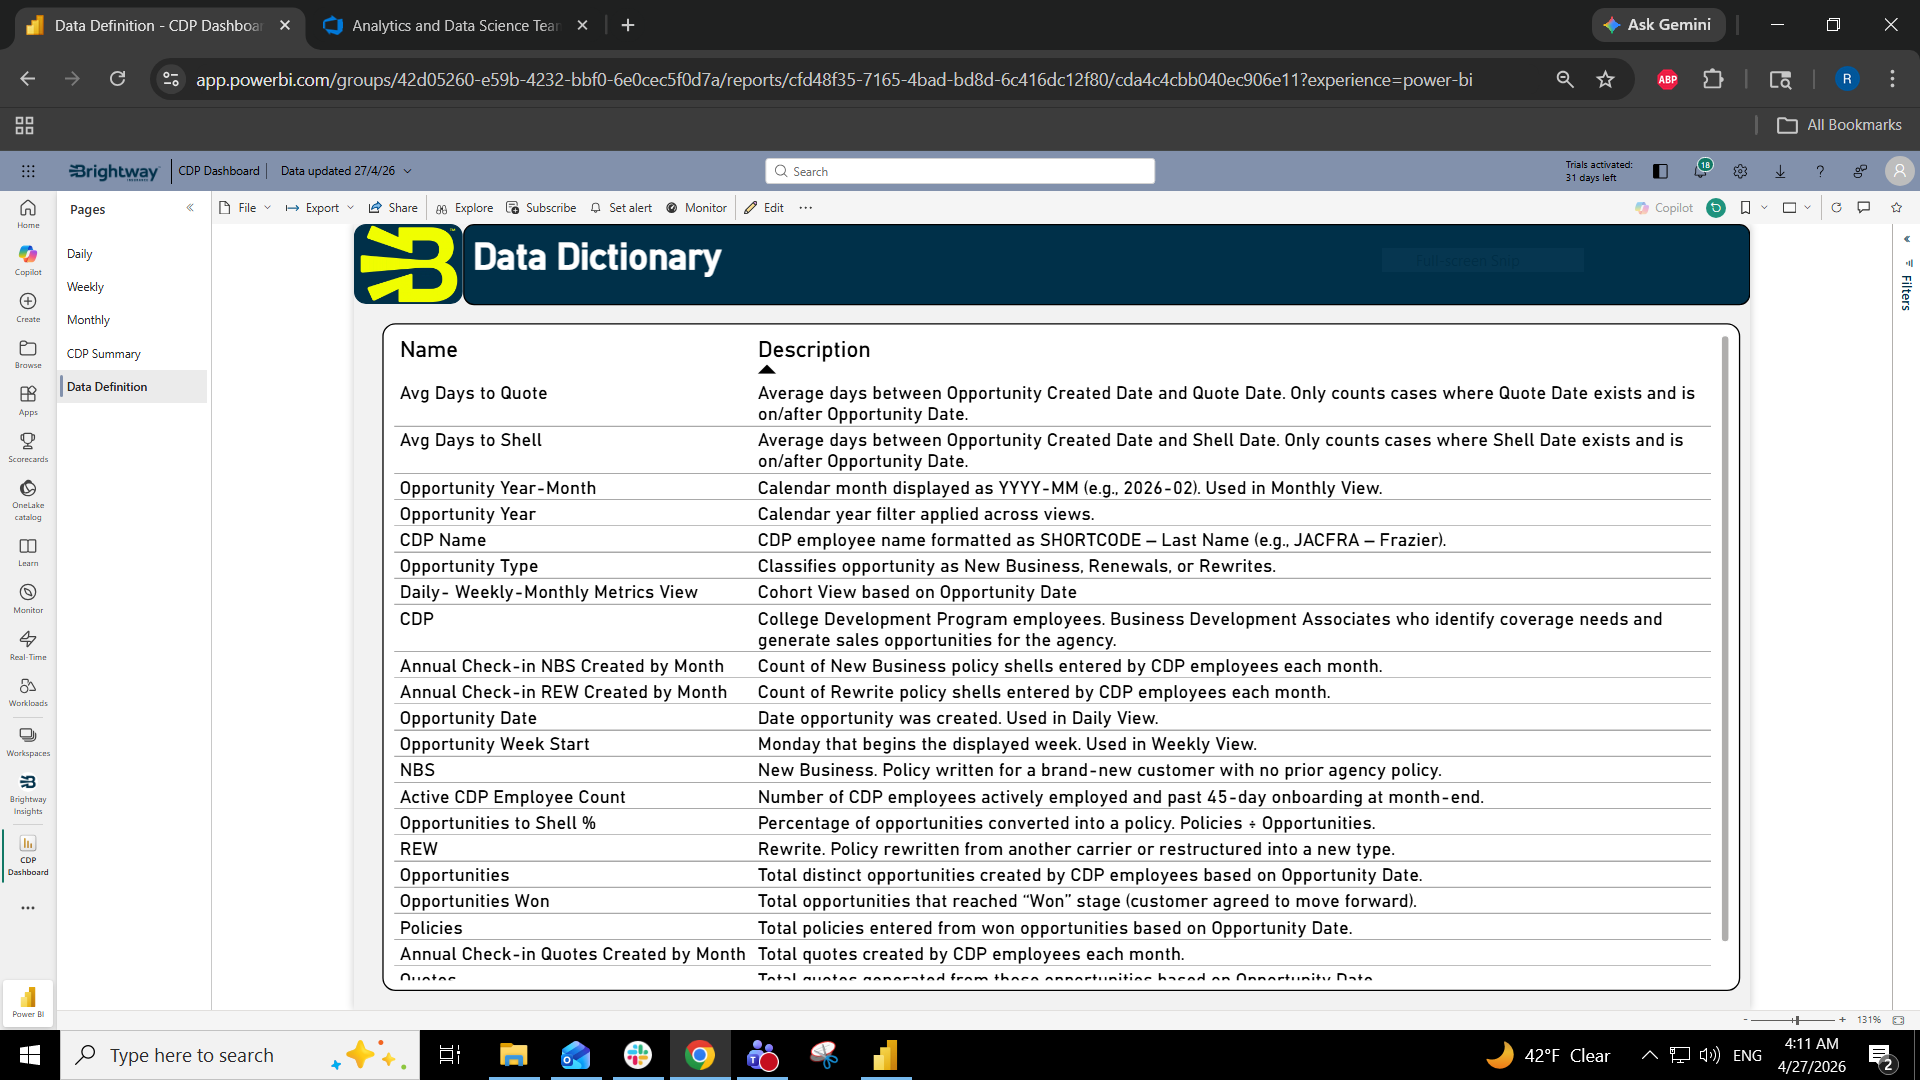

The dashboard page shown, as its layout file describes it:
{"tool":"powerbi","page":{"name":"Data Definition","canvas":[1280,720],"ordinal":4},"visuals":[{"type":"tableEx","fields":{"Values":["Data Definition.Name","Data Definition.Definition"]},"box":[26.1,90.6,1244.6,612],"z":0},{"type":"textbox","box":[100.2,0,1180.1,74.1],"z":1000},{"type":"image","box":[0,0,100.2,72.7],"z":2000}]}

Visuals, with their boxes on the page's 1280x720 design canvas (x1, y1, x2, y2). These are canvas units, not pixel positions in the 1920x1080 screenshot, which may show the page scaled, cropped or inside an application window:
tableEx - Data Definition.Name x Data Definition.Definition: 26, 91, 1271, 703
textbox: 100, 0, 1280, 74
image: 0, 0, 100, 73
